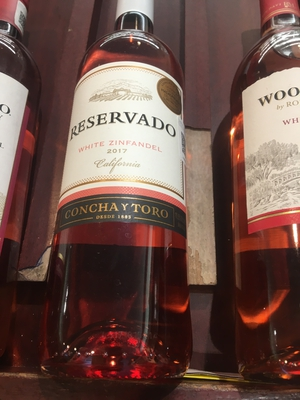reservado white zinfandel: (59, 7, 190, 373)
